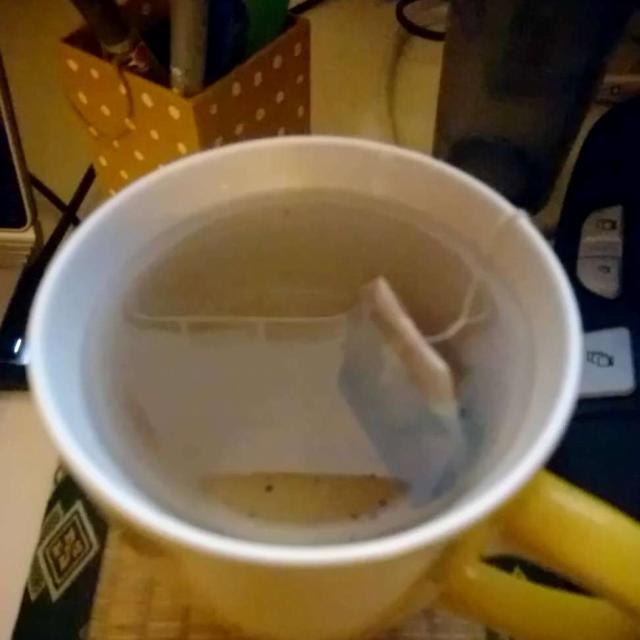tea: (97, 195, 494, 538)
